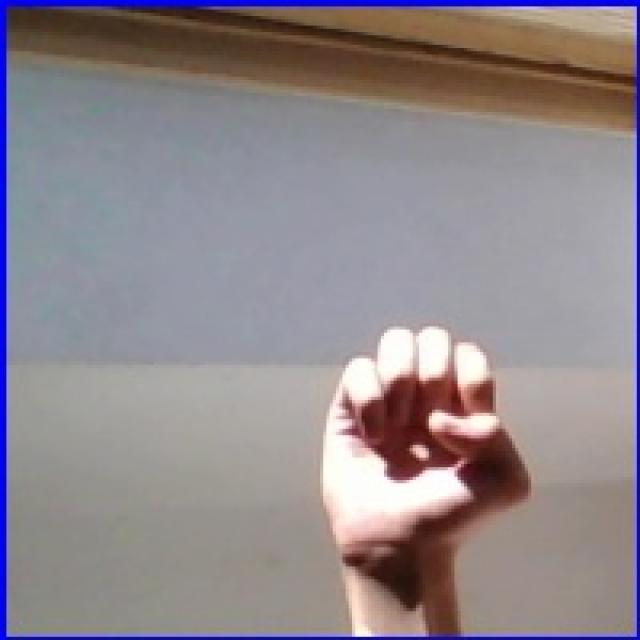Letra E: (291, 294, 559, 615)
